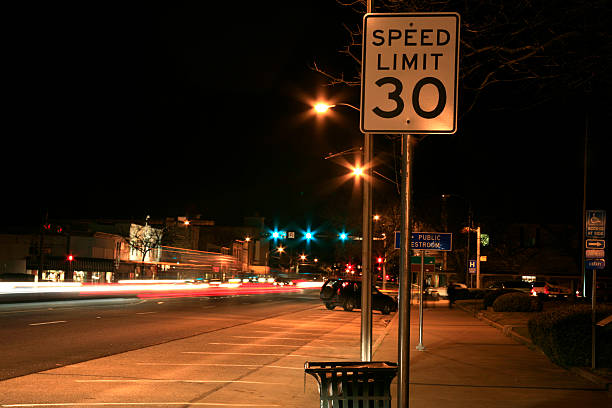SpeedLimitSign: (358, 11, 460, 134)
